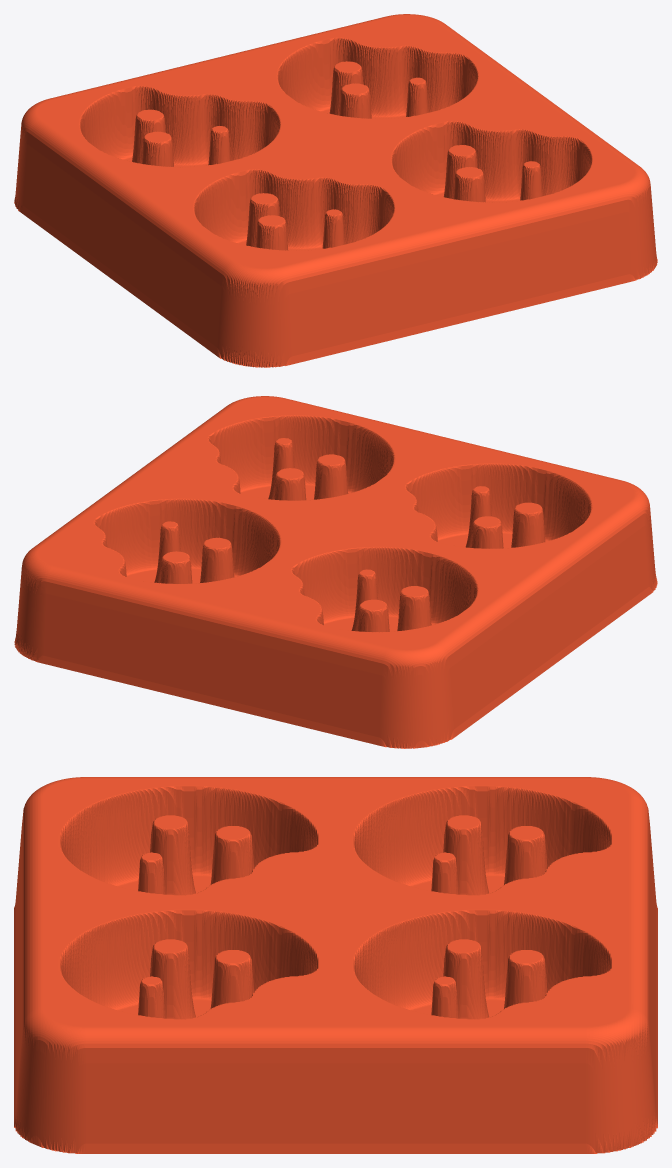
Rendered from mold.glb.
3 views of the same model, one above another, from view 1: azimuth 30°, elevation 25°; view 2: azimuth 150°, elevation 25°; view 3: azimuth 270°, elevation 25° (orthographic). The views are drawn at different scales.
Parts seen in each view (by area): view 1: geometry_0; view 2: geometry_0; view 3: geometry_0.
Part boxes in pixels (box(x1,y1,x2,y2)): geometry_0: box(14, 14, 657, 367); geometry_0: box(14, 396, 657, 748); geometry_0: box(14, 777, 657, 1153).
Bounding box in the file's own units: 0.0808 × 0.0159 × 0.0808.
